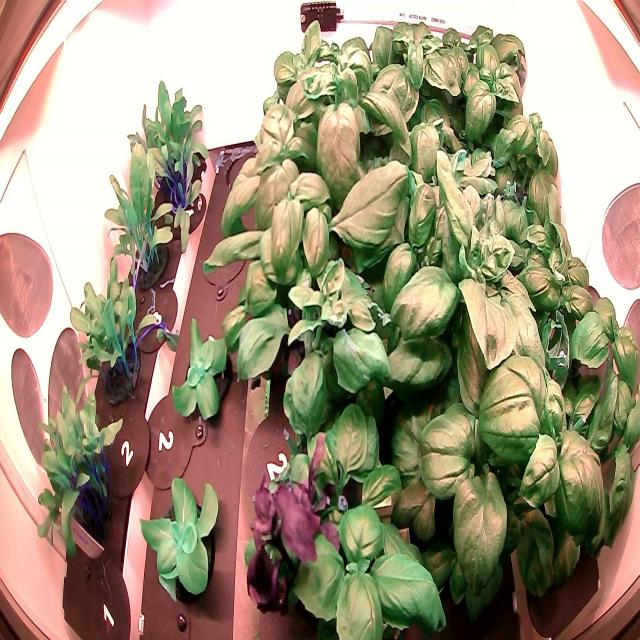empty_pod: (196, 217, 252, 298), (222, 139, 273, 212)
young: (137, 465, 233, 610), (164, 313, 238, 433)
